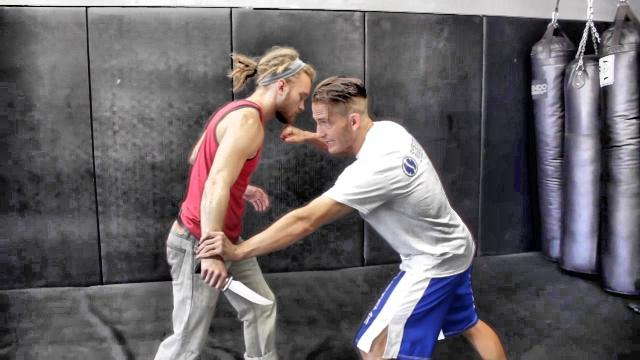knife: (192, 258, 276, 310)
